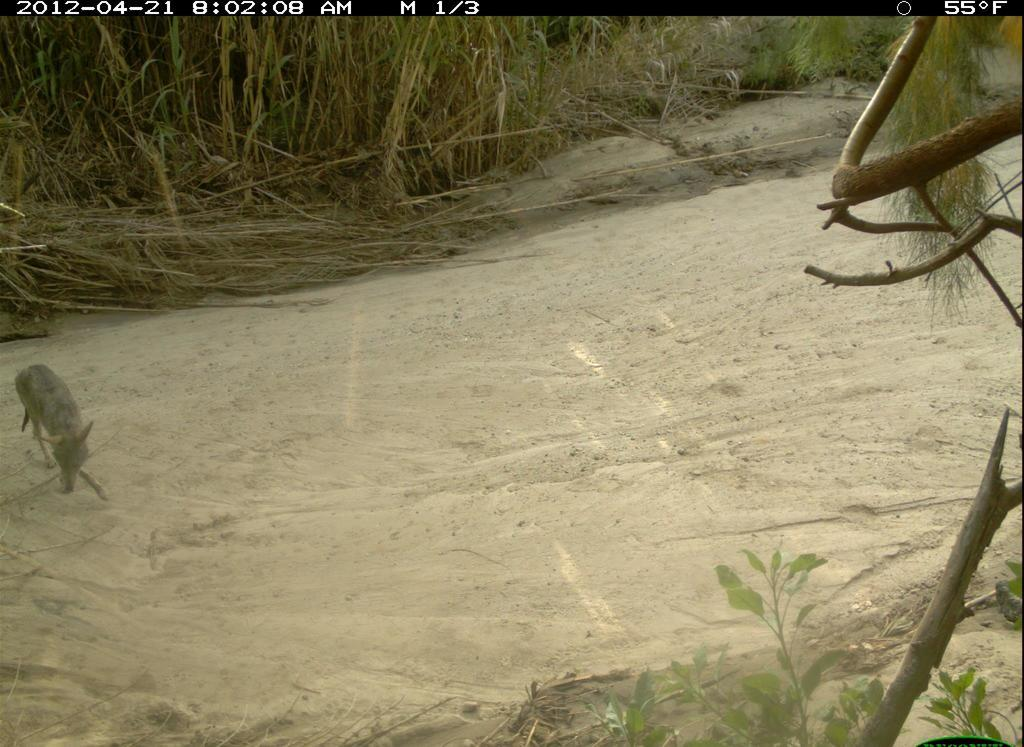coyote: (9, 364, 116, 505)
